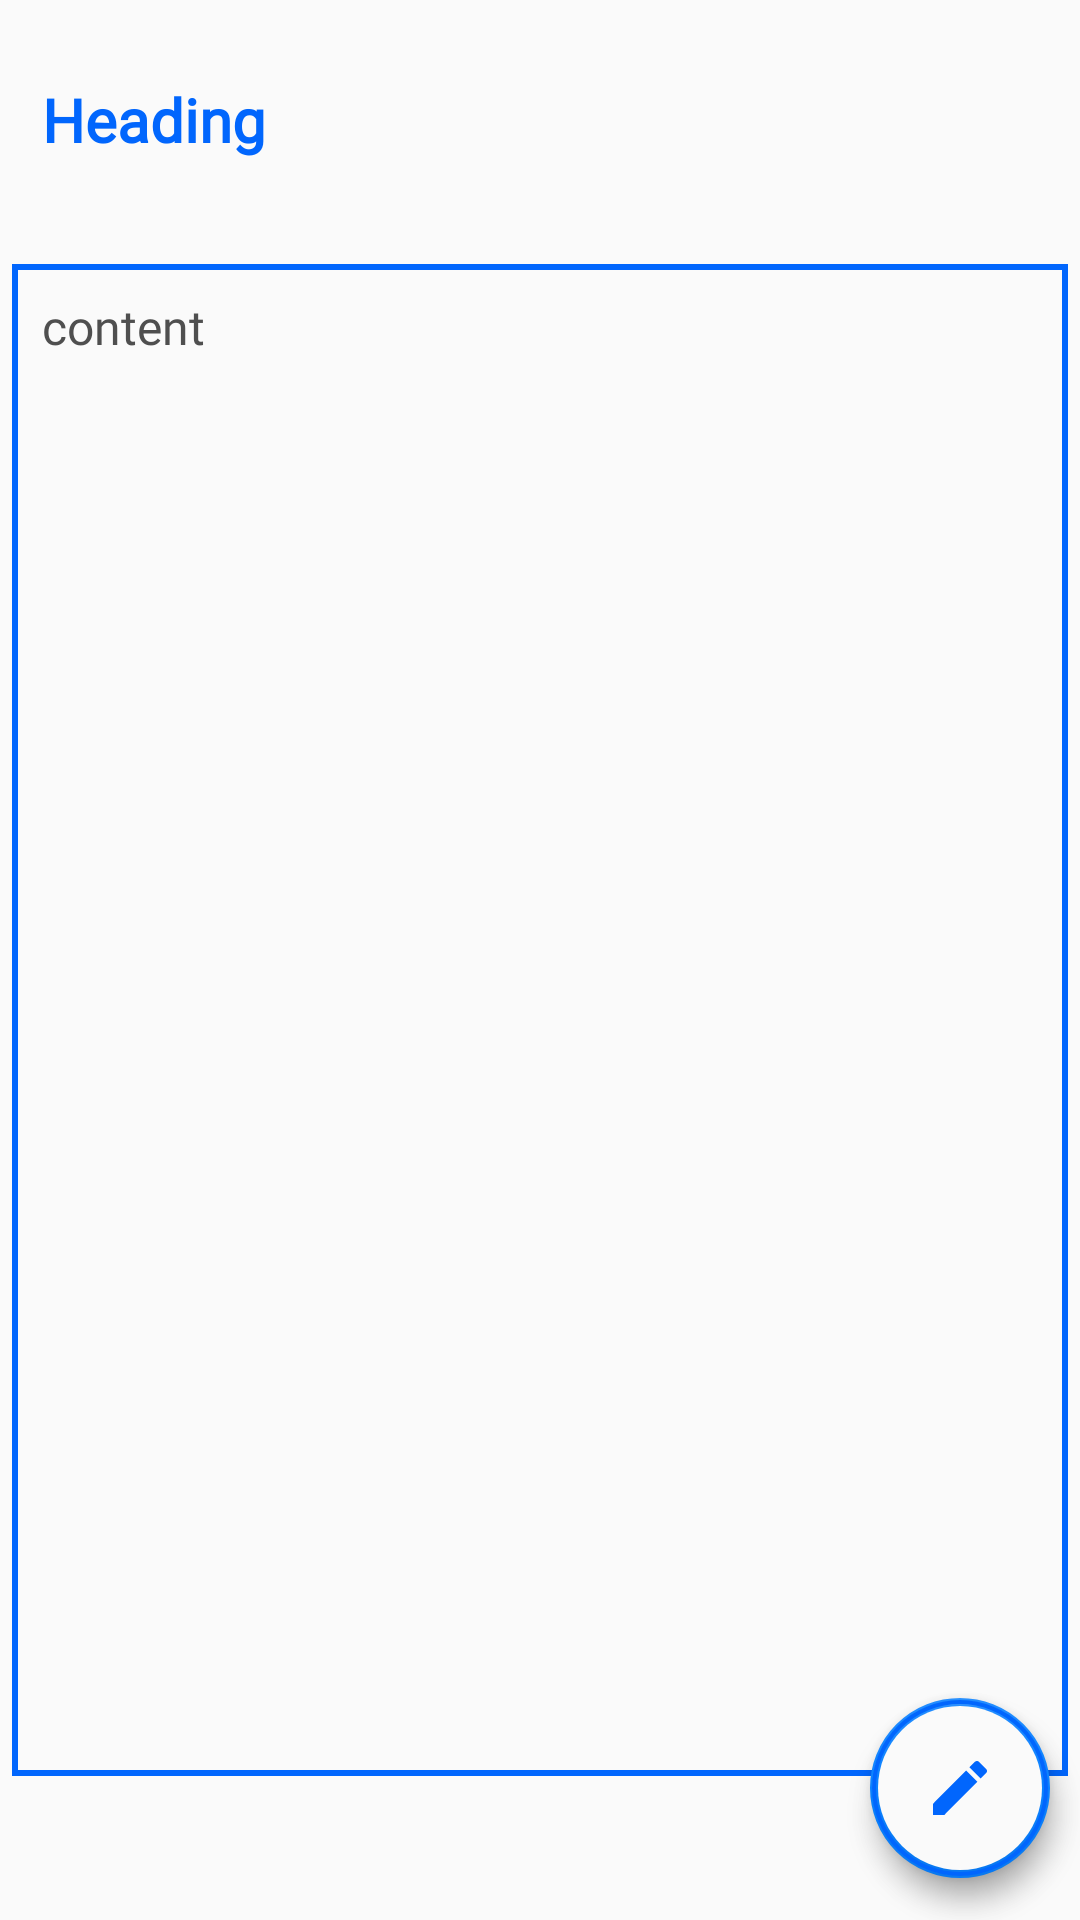

Screen size 1080x1920. Icon name, then its center in pixels as (x,y):
Add note: (960,1788)
